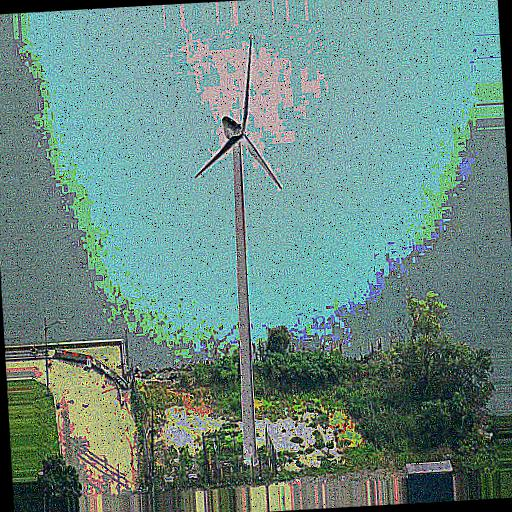wind turbine: (194, 33, 286, 462)
